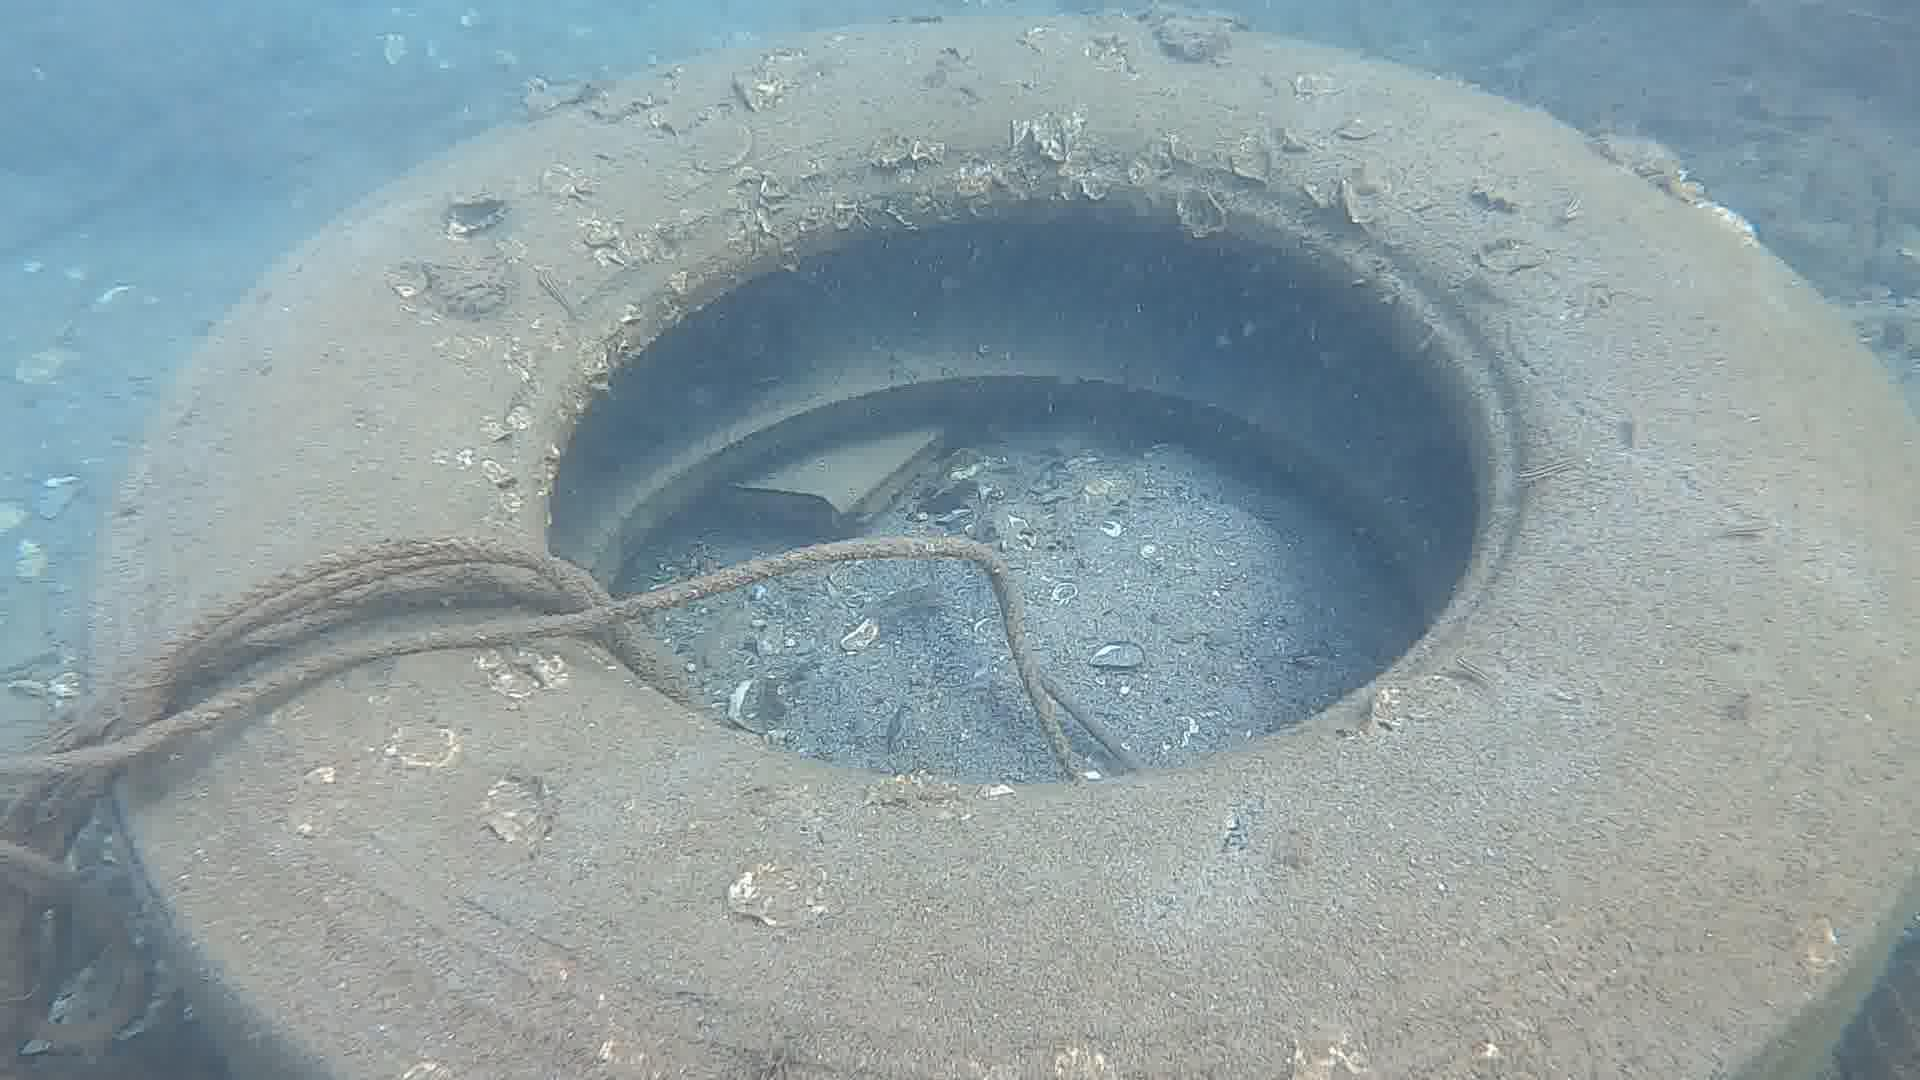bundle of ropes: (0, 535, 1084, 1065)
tire: (80, 15, 1920, 1080)
